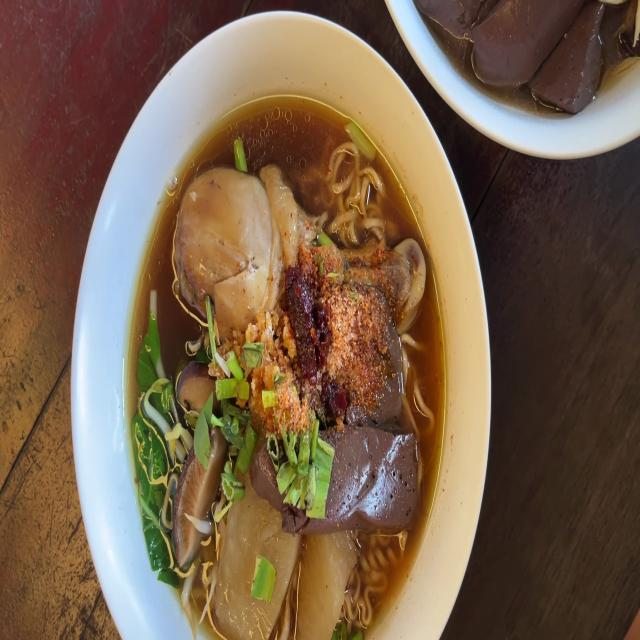noodle: (132, 82, 438, 638)
